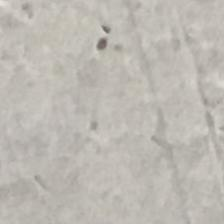Non_Crack: (14, 5, 224, 224)
